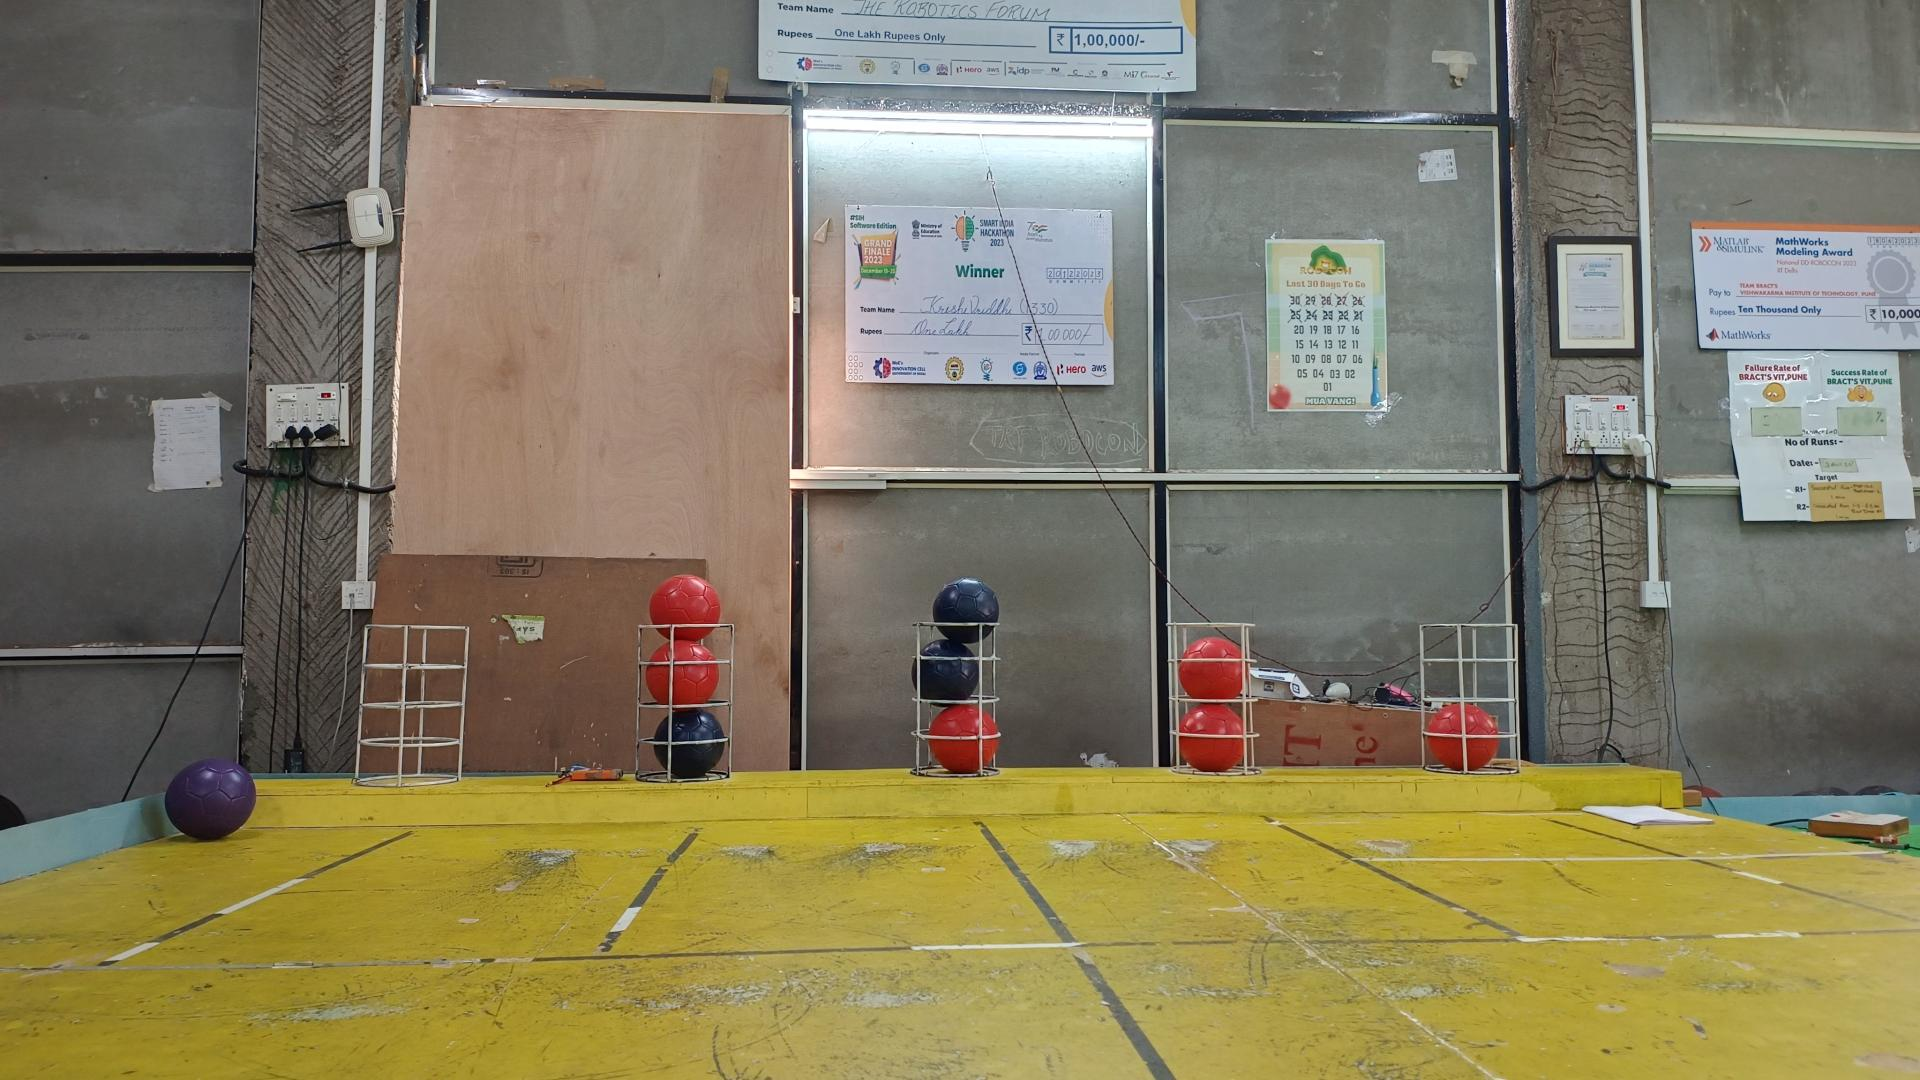dhoka: (654, 707, 725, 778), (932, 580, 1000, 644), (910, 641, 977, 700)
laale: (928, 704, 1000, 775), (1427, 704, 1499, 771), (644, 641, 719, 704), (650, 576, 721, 640), (1179, 703, 1244, 770), (1178, 636, 1245, 699)
